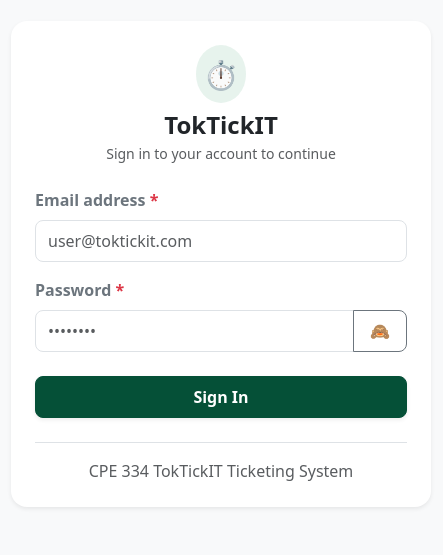
Test: LoginView Component (Lab 3 UI-AUTH-01) › shows error alert when submitted with empty fields
The width and height of the screenshot is (443, 555).
Click the button "Sign In". click: click(221, 397)
box: [35,376,407,418]
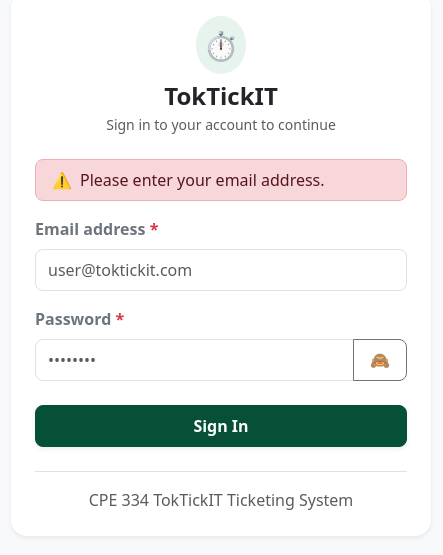
Now the text "Please enter your email address." is shown, box [80,168,325,192]
